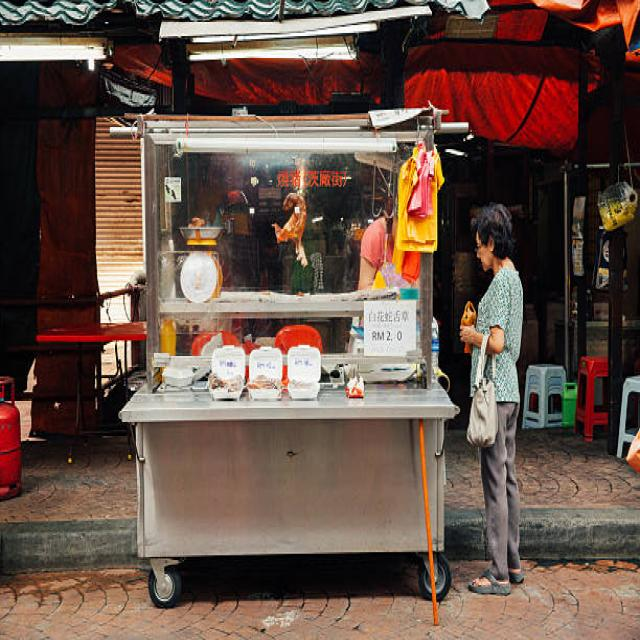Emperan: (99, 100, 480, 634)
